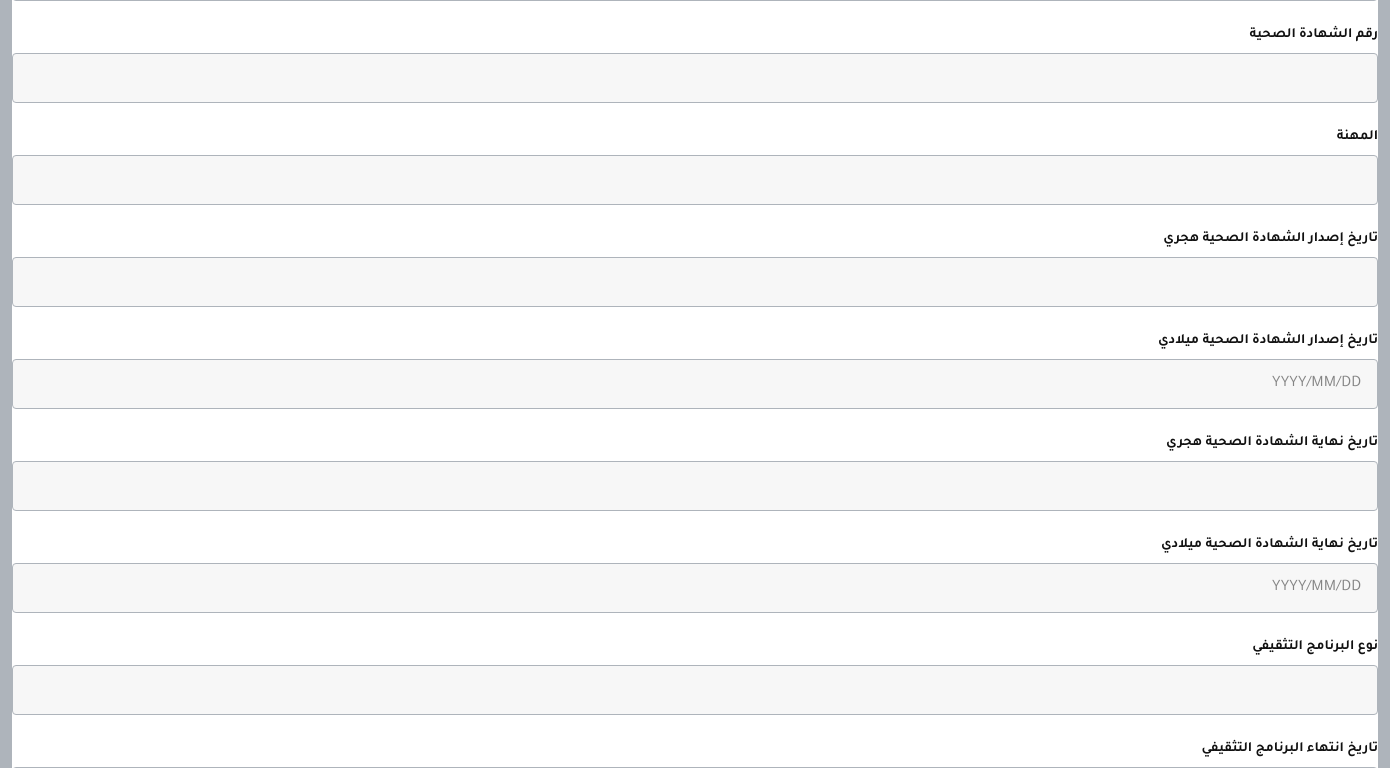
Scenario: EmployeeForm › formats typed digits into YYYY/MM/DD as the user types
The width and height of the screenshot is (1390, 768).
(page scrolled)
Type "20260715" into the field labelled "تاريخ إصدار الشهادة الصحية ميلادي".
click(695, 384); type("20260715")  # box [12, 359, 1378, 409]
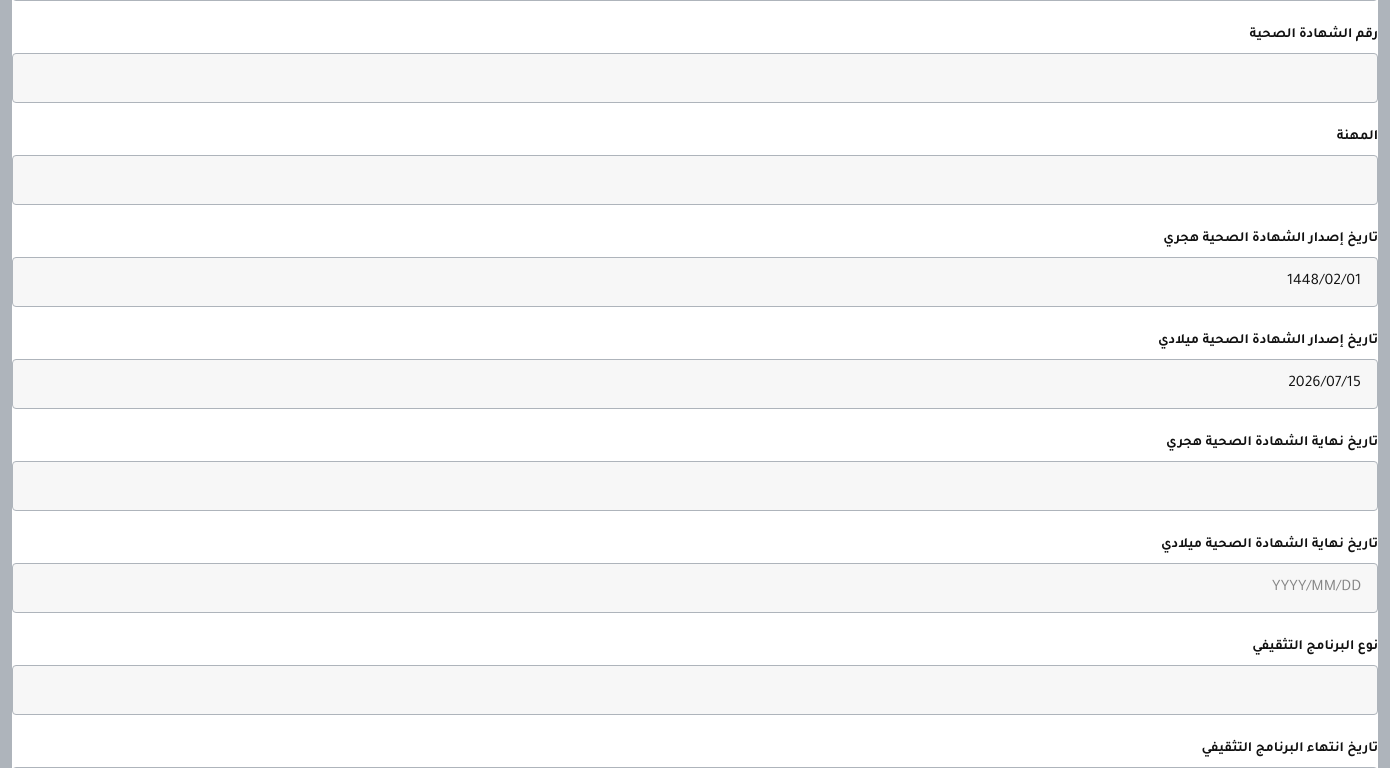
Expected: the field labelled "تاريخ إصدار الشهادة الصحية ميلادي" holds "2026/07/15", [12, 359, 1378, 409]
